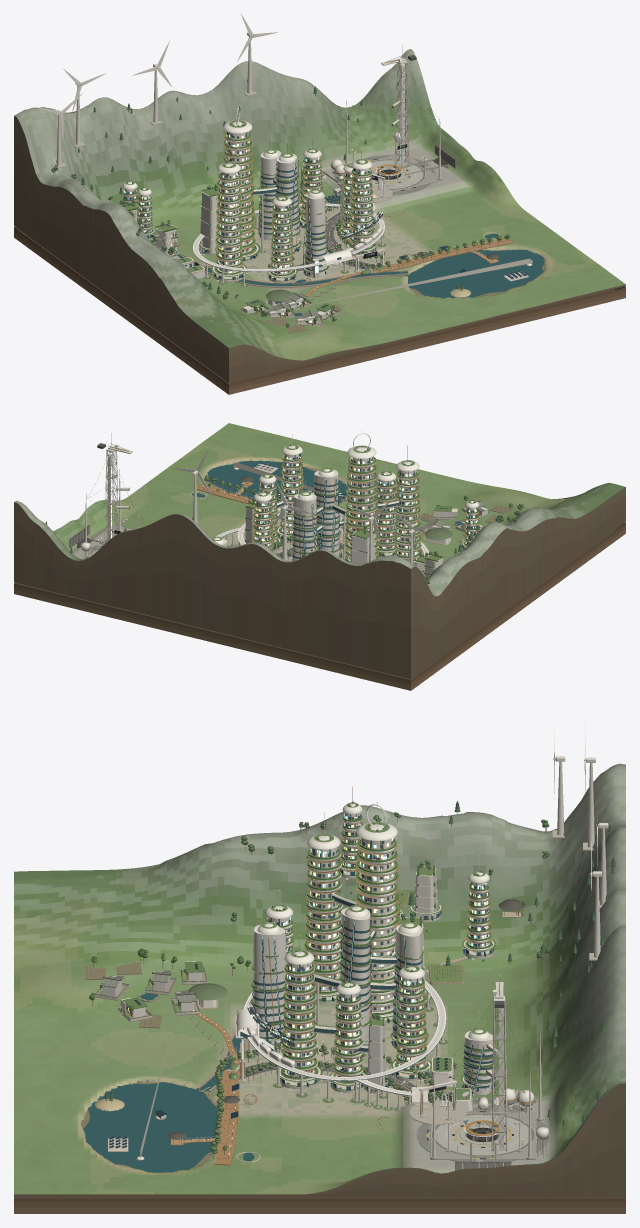
File: future.glb
3 views of the same model, one above another, from view 1: azimuth 30°, elevation 25°; view 2: azimuth 150°, elevation 25°; view 3: azimuth 270°, elevation 25° (orthographic). The views are drawn at different scales.
Parts seen in each view (by area): view 1: Future_F_Matte, Future_F_White, Future_F_Foliage, Future_Matte, Future_F_Wood, Water_Bay, Future_F_Glass, Future_F_Metal, Future_EmisCyan, Future_EmisWarm; view 2: Future_F_Matte, Future_F_White, Future_Matte, Future_F_Foliage, Future_F_Glass, Future_F_Wood, Water_Bay, Future_F_Metal, Future_EmisCyan, Future_EmisWarm; view 3: Future_F_Matte, Future_F_White, Future_F_Foliage, Future_Matte, Water_Bay, Future_F_Glass, Future_F_Wood, Future_F_Metal, Future_EmisCyan, Future_EmisWarm.
Part boxes in pixels (x1,y1,x2,y2): Future_F_Matte: (14, 49, 625, 382); Future_F_White: (38, 14, 532, 325); Future_F_Foliage: (51, 80, 509, 332); Future_Matte: (14, 227, 625, 394); Future_F_Wood: (53, 58, 512, 330); Water_Bay: (405, 249, 544, 298); Future_F_Glass: (123, 132, 466, 322); Future_F_Metal: (130, 46, 529, 280); Future_EmisCyan: (124, 60, 411, 278); Future_EmisWarm: (123, 134, 477, 322); Future_F_Matte: (14, 423, 625, 678); Future_F_White: (81, 433, 487, 577); Future_Matte: (14, 463, 625, 690); Future_F_Foliage: (45, 444, 524, 583); Future_F_Glass: (221, 453, 478, 562); Future_F_Wood: (71, 447, 520, 562); Water_Bay: (207, 460, 347, 503); Future_F_Metal: (82, 434, 464, 558); Future_EmisCyan: (111, 434, 476, 561); Future_EmisWarm: (98, 457, 477, 554); Future_F_Matte: (14, 763, 625, 1197); Future_F_White: (95, 719, 608, 1160); Future_F_Foliage: (87, 801, 616, 1153); Future_Matte: (14, 1082, 625, 1213); Water_Bay: (83, 1082, 219, 1172); Future_F_Glass: (123, 814, 495, 1117); Future_F_Wood: (92, 812, 613, 1165); Future_F_Metal: (107, 788, 546, 1163); Future_EmisCyan: (240, 805, 522, 1145); Future_EmisWarm: (128, 817, 488, 1154).
Size of the model in its own units: 321 by 139 by 300.
16 materials, 2 textured.
